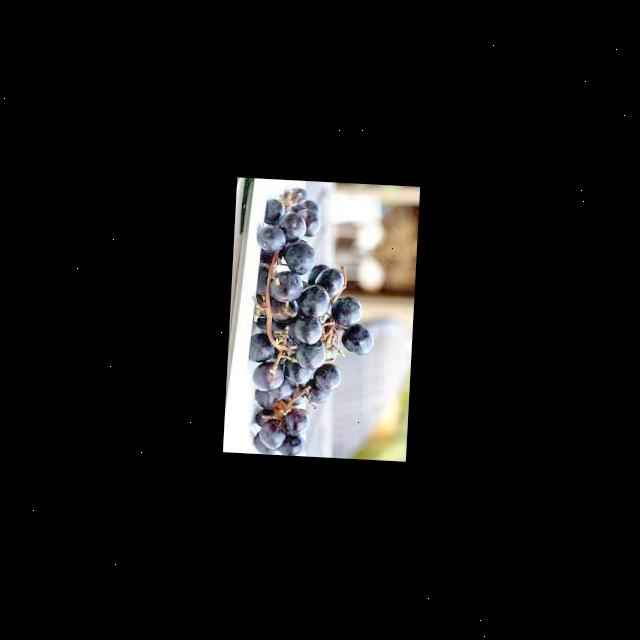grape: (244, 186, 382, 459)
